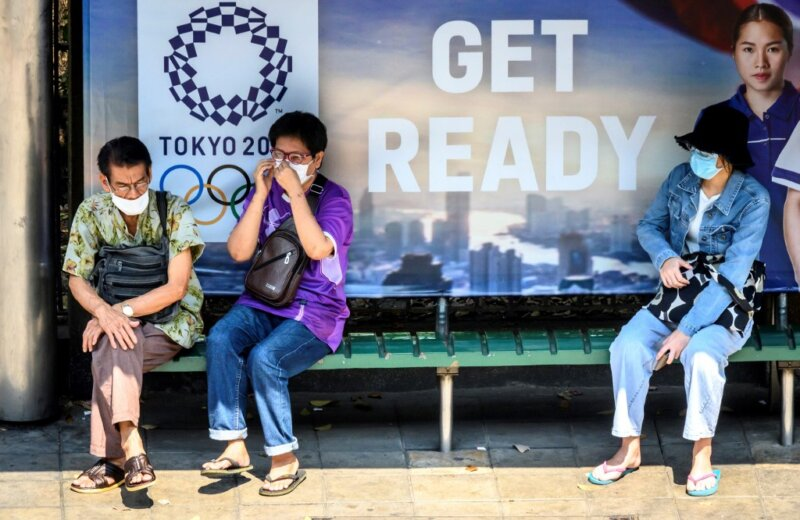with_incorrect_mask: (110, 161, 149, 216)
with_mask: (687, 140, 736, 182), (274, 138, 310, 193)
